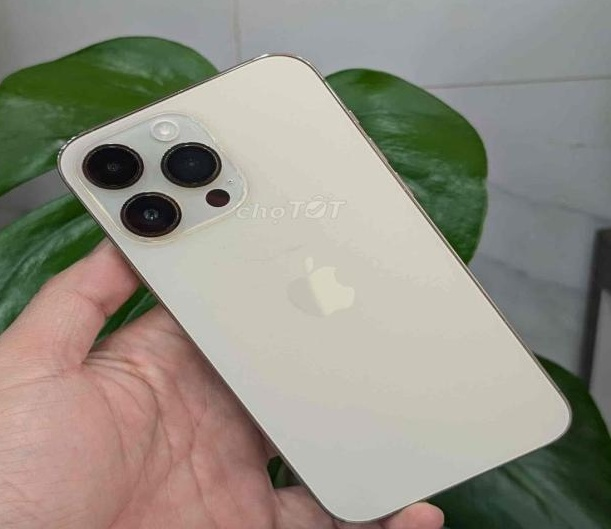physical_damage: (238, 169, 257, 204), (189, 111, 211, 134), (134, 232, 153, 242)
